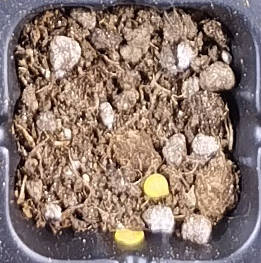chilli seed: (142, 173, 169, 197), (114, 229, 144, 243)
